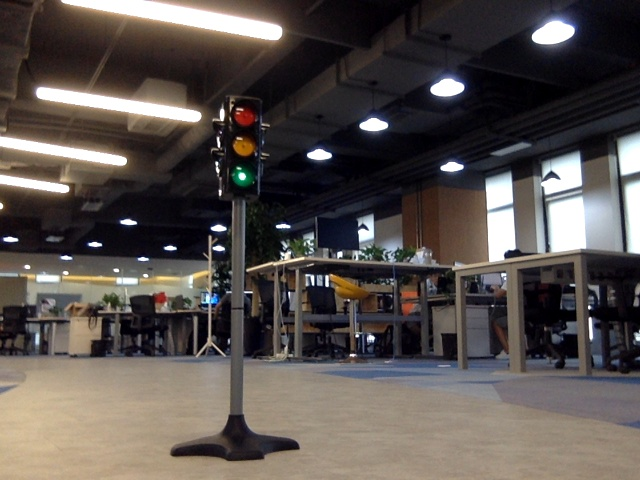green: (226, 98, 258, 195)
